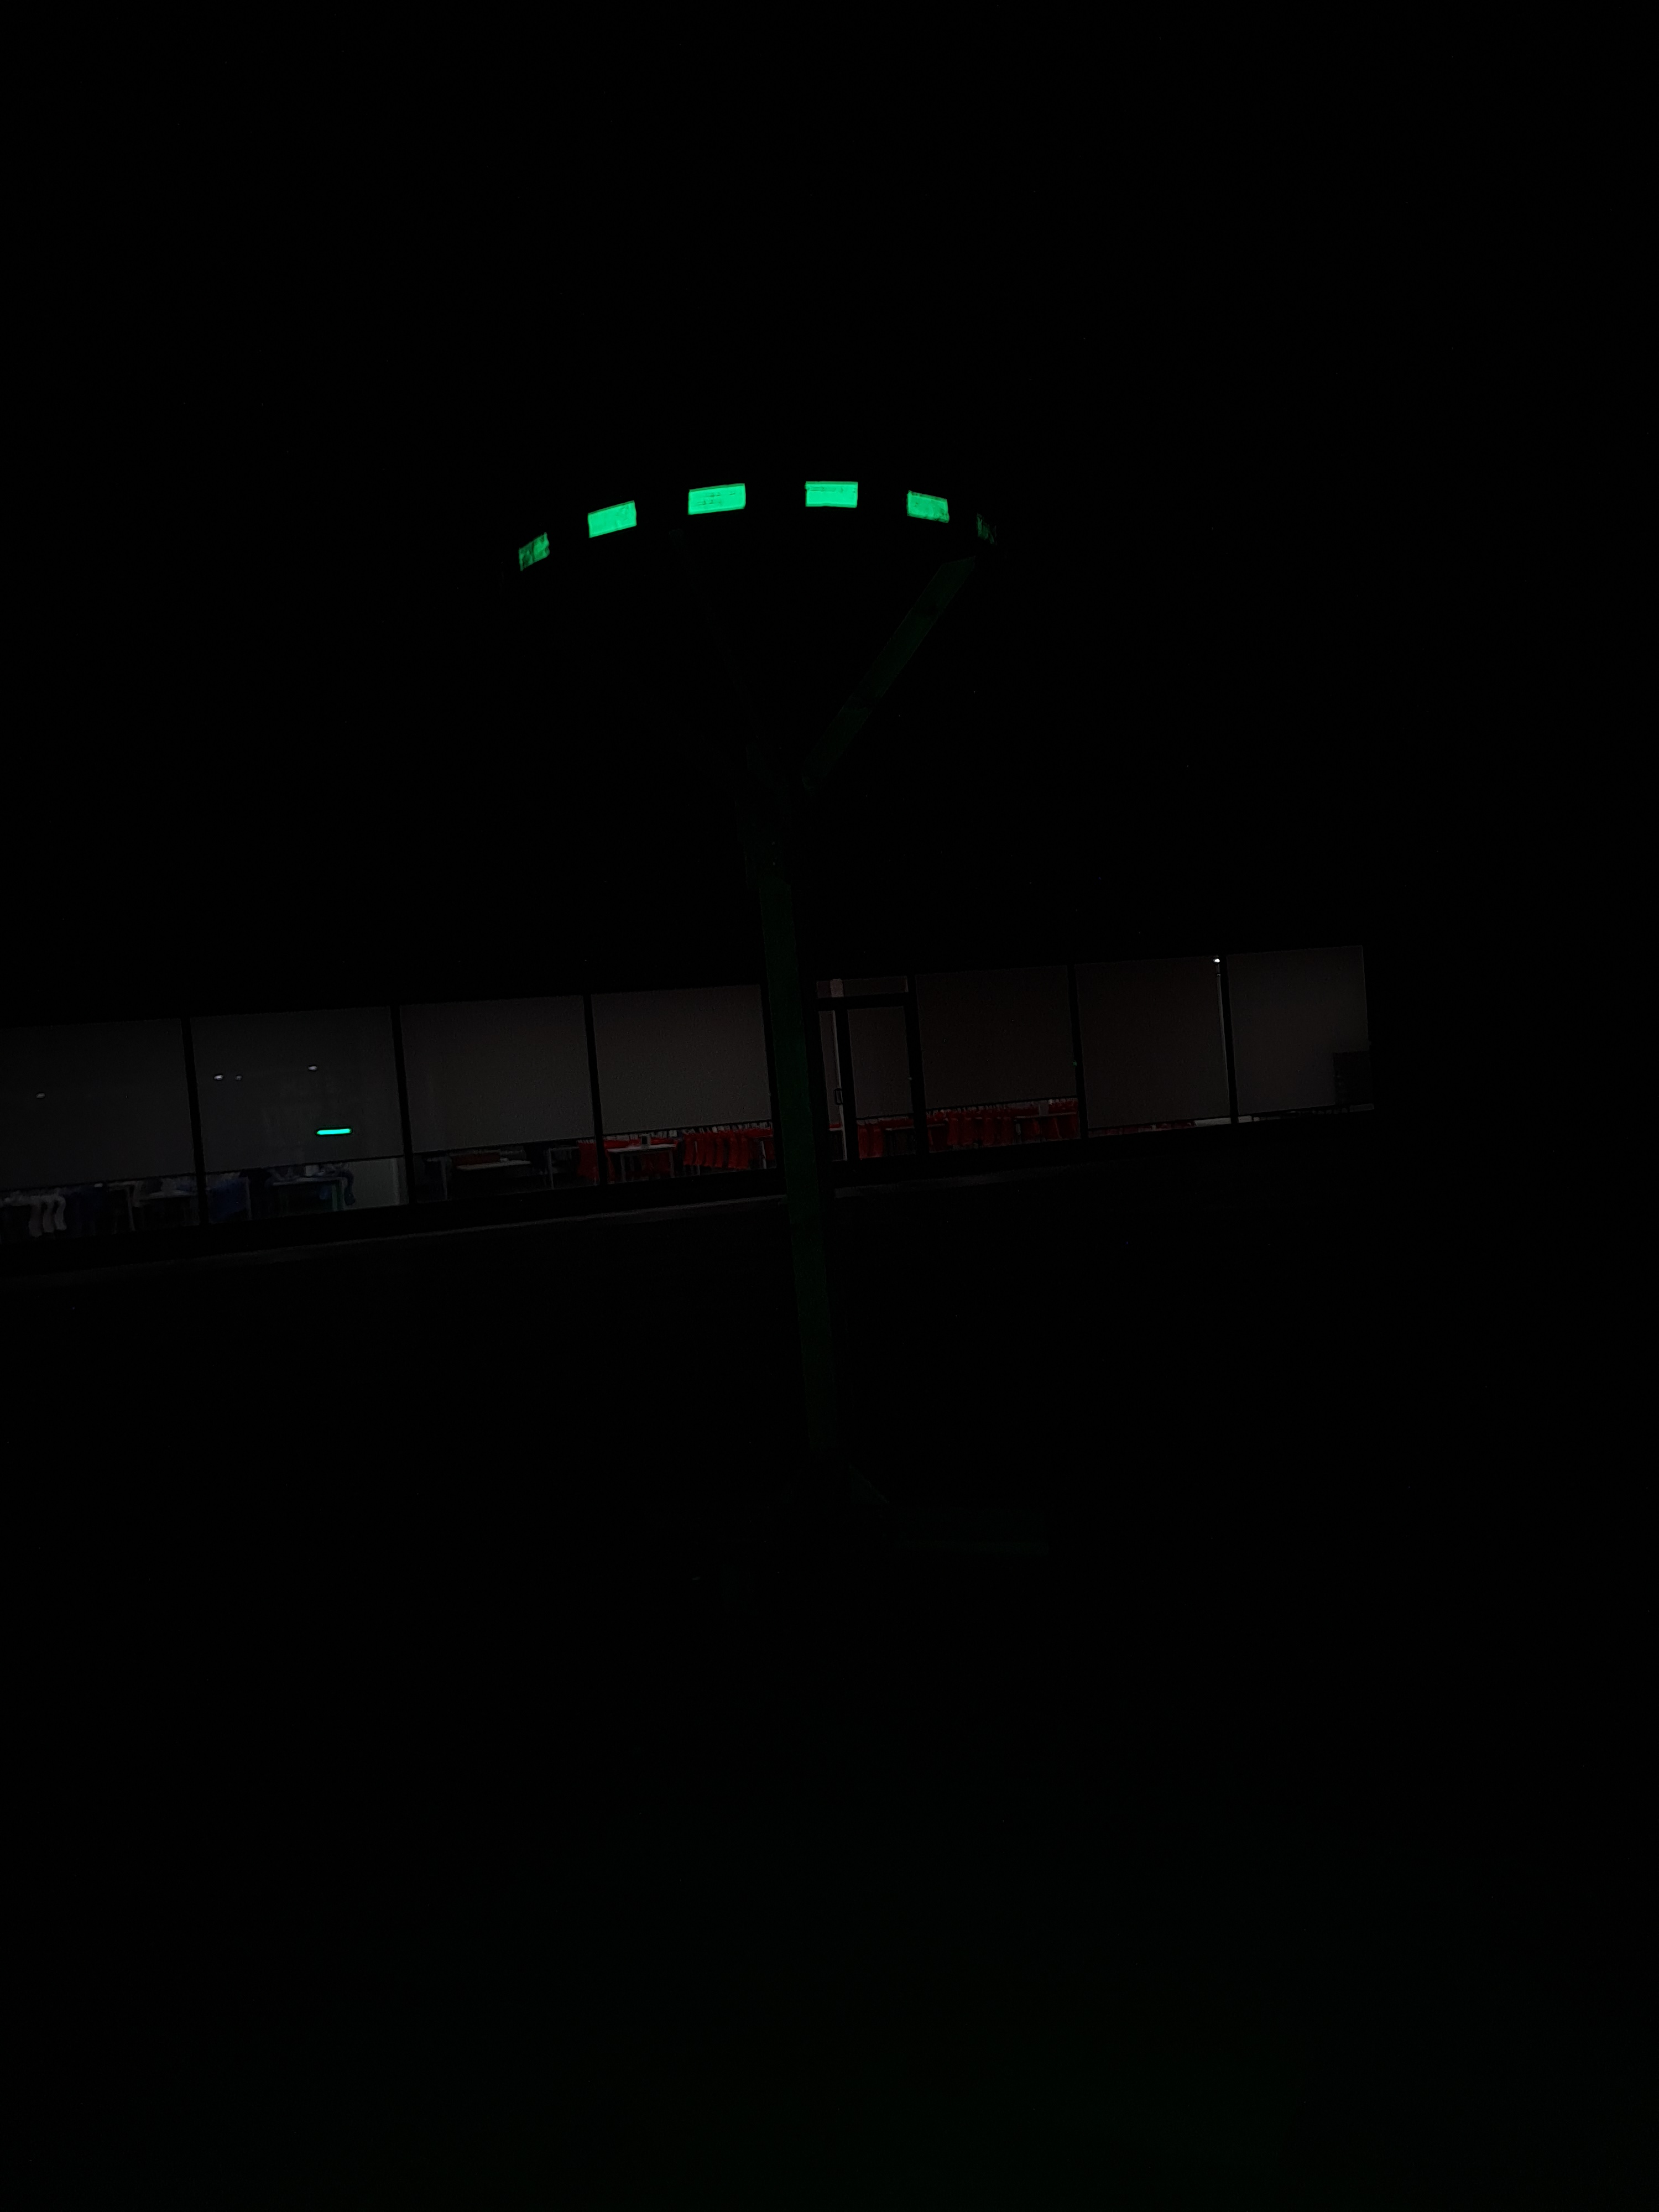hoop: (512, 474, 995, 582)
